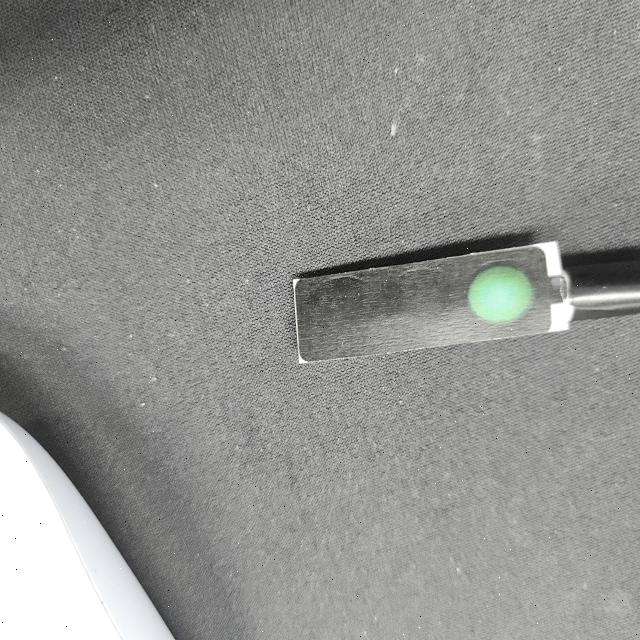traffic light: (296, 235, 571, 363)
